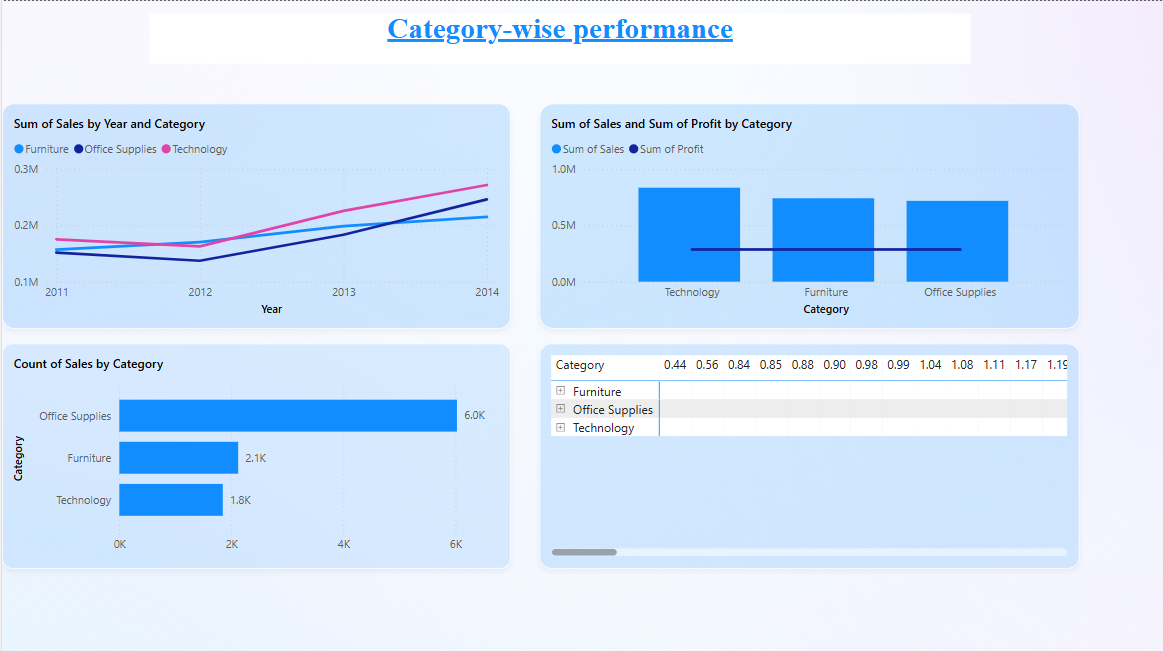

The page's visual inventory and layout, read from the dashboard file:
{"tool":"powerbi","page":{"name":"Category-wise performance","canvas":[1280,720],"ordinal":2},"visuals":[{"type":"lineChart","fields":{"Category":["Orders.Order Date.Variation.Date Hierarchy.Year","Orders.Order Date.Variation.Date Hierarchy.Month"],"Y":["Sum(Orders.Sales)"],"Series":["Orders.Category"]},"box":[0,112.5,558.5,247],"z":0},{"type":"lineClusteredColumnComboChart","fields":{"Category":["Orders.Category"],"Y":["Sum(Orders.Sales)"],"Y2":["Sum(Orders (2).Profit)"]},"box":[590.1,112.5,592.8,247],"z":1},{"type":"barChart","fields":{"Category":["Orders.Category"],"Y":["CountNonNull(Orders.Sales)"]},"box":[0,376,558.5,247],"z":2},{"type":"pivotTable","fields":{"Rows":["Orders.Category","Orders.Sub-Category"],"Columns":["Orders.Sales","Orders (2).Profit","Orders (2).Quantity"]},"box":[590.1,376,592.8,247],"z":3},{"type":"textbox","box":[161.9,13.7,901.5,54.9],"z":4}]}

Visuals, with their boxes in screenshot pixels (x1, y1, x2, y2), scaled from the page's 1280x720 canvas onto the 1163x651 screenshot:
lineChart - Orders.Order Date.Variation.Date Hierarchy.Year x Orders.Order Date.Variation.Date Hierarchy.Month: <bbox>0, 102, 507, 325</bbox>
lineClusteredColumnComboChart - Orders.Category x Sum(Orders.Sales): <bbox>536, 102, 1075, 325</bbox>
barChart - Orders.Category x CountNonNull(Orders.Sales): <bbox>0, 340, 507, 563</bbox>
pivotTable - Orders.Category x Orders.Sub-Category: <bbox>536, 340, 1075, 563</bbox>
textbox: <bbox>147, 12, 966, 62</bbox>
